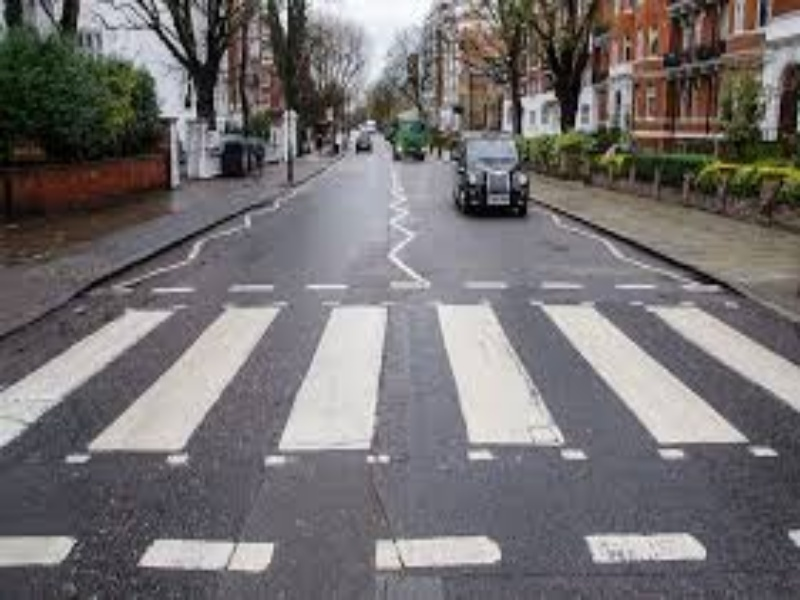zebra cross: (1, 301, 797, 453)
